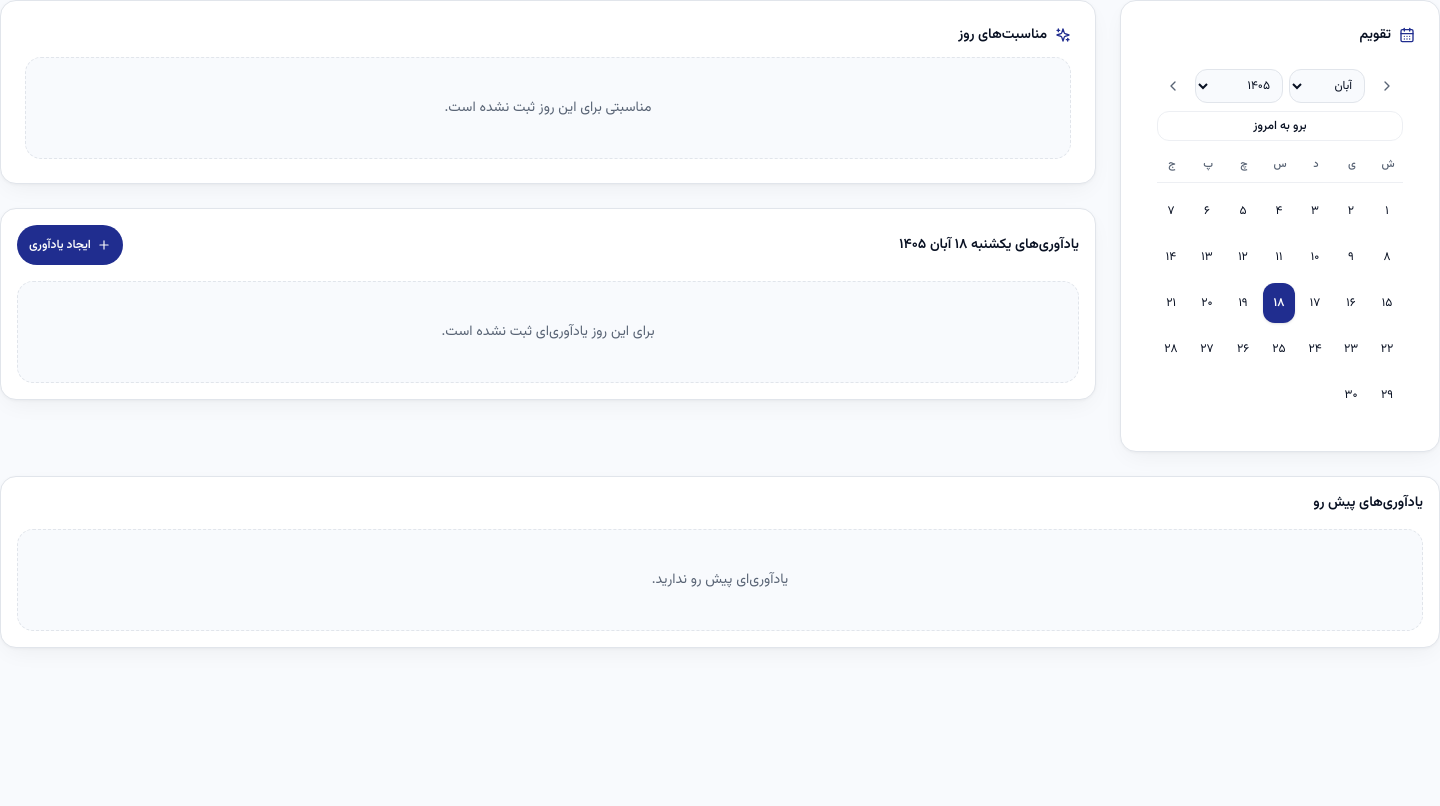
Test: CoreCalendarView › reminder creation › inherits the selected day and does not let the form choose one
Click the button with test id "reminder-create-toggle" at [70, 245], box x1=17 y1=225 x2=123 y2=265
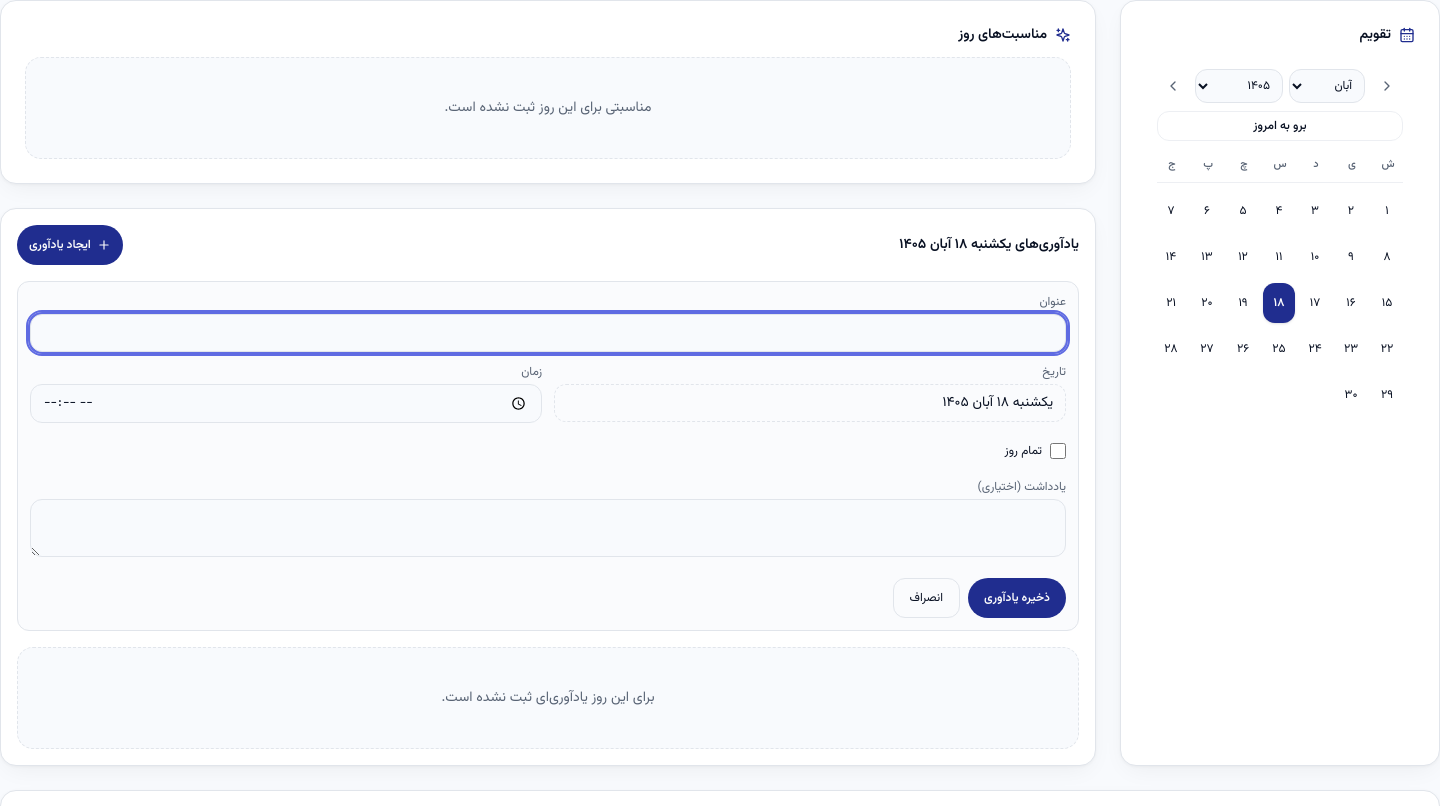
Expected: the text with test id "reminder-form-date" reads "یکشنبه ۱۸ آبان ۱۴۰۵", x1=942 y1=392 x2=1053 y2=414
